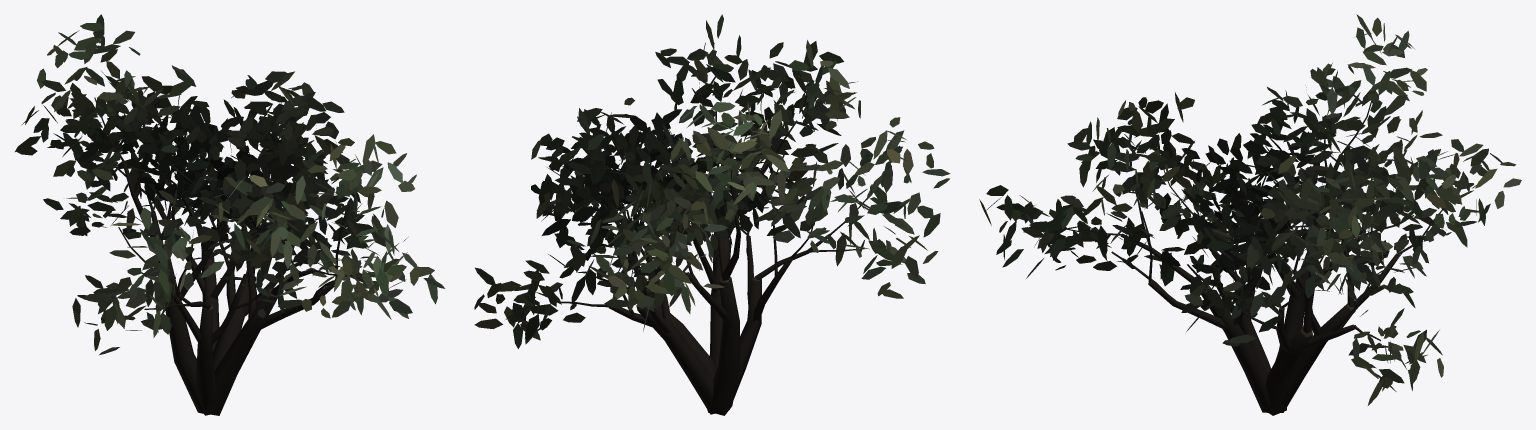
File: SM_Sagebrush.fbx
3 views of the same model, side by side, from view 1: azimuth 30°, elevation 25°; view 2: azimuth 150°, elevation 25°; view 3: azimuth 270°, elevation 25° (orthographic). The views are drawn at different scales.
Parts seen in each view (by area): view 1: SM_Sagebrush; view 2: SM_Sagebrush; view 3: SM_Sagebrush.
Boxes of the visible parts, x1=… form: SM_Sagebrush: x1=15, y1=14, x2=445, y2=415; SM_Sagebrush: x1=474, y1=14, x2=950, y2=415; SM_Sagebrush: x1=979, y1=14, x2=1521, y2=415.
Size of the model in its own units: 1.1 by 1.08 by 1.5.
